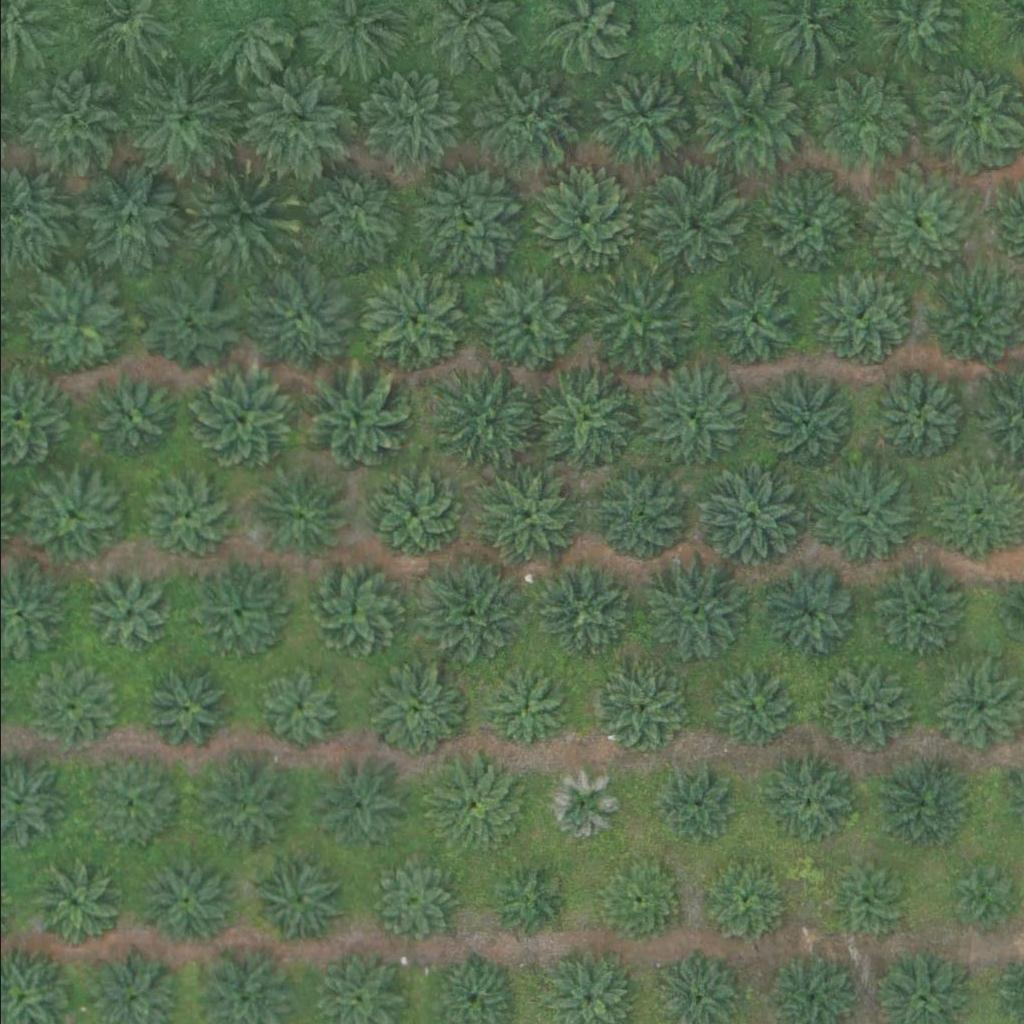Kelapa_Sawit: (859, 168, 973, 281), (747, 172, 861, 285), (583, 269, 697, 382), (526, 361, 640, 474), (427, 369, 541, 482), (353, 67, 466, 180), (637, 556, 750, 669), (296, 363, 409, 476), (186, 365, 299, 478), (73, 164, 186, 277), (239, 69, 352, 182), (126, 60, 239, 173), (9, 66, 122, 179), (633, 359, 747, 471), (411, 556, 525, 668), (690, 70, 803, 182), (582, 68, 695, 180), (633, 172, 746, 284), (409, 171, 522, 283), (693, 463, 806, 575), (293, 162, 406, 274), (178, 161, 291, 273), (470, 76, 571, 176), (534, 174, 635, 274), (920, 271, 1021, 371), (477, 276, 578, 376), (861, 372, 962, 472), (755, 374, 856, 474), (817, 467, 918, 567), (865, 561, 966, 661), (757, 564, 858, 664), (533, 562, 634, 662), (424, 760, 525, 860), (359, 848, 460, 948), (249, 848, 350, 948), (309, 754, 410, 854), (249, 465, 350, 565), (21, 466, 122, 566), (362, 269, 463, 369), (250, 266, 351, 366), (134, 275, 235, 375), (24, 276, 125, 376), (921, 67, 1021, 167), (811, 80, 911, 180), (812, 271, 912, 371), (701, 274, 801, 374), (590, 466, 690, 566), (473, 468, 573, 568), (194, 757, 294, 857), (366, 662, 466, 762), (304, 561, 404, 661), (188, 565, 288, 665), (363, 465, 463, 565), (815, 666, 904, 754), (591, 856, 680, 944), (485, 857, 573, 945), (873, 760, 961, 848), (760, 757, 848, 845), (694, 859, 782, 947), (249, 665, 337, 753), (85, 374, 173, 462), (702, 663, 790, 750), (592, 666, 680, 753), (138, 857, 226, 944), (27, 860, 115, 947), (78, 760, 166, 847), (86, 572, 174, 659), (142, 474, 230, 561), (487, 672, 563, 747), (144, 674, 220, 749), (33, 672, 109, 747), (823, 862, 898, 937), (655, 766, 730, 841), (541, 768, 616, 843), (955, 864, 1018, 927)
